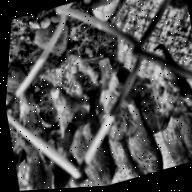boar: (81, 32, 166, 186), (38, 79, 116, 190), (134, 38, 192, 172), (0, 84, 68, 192)
